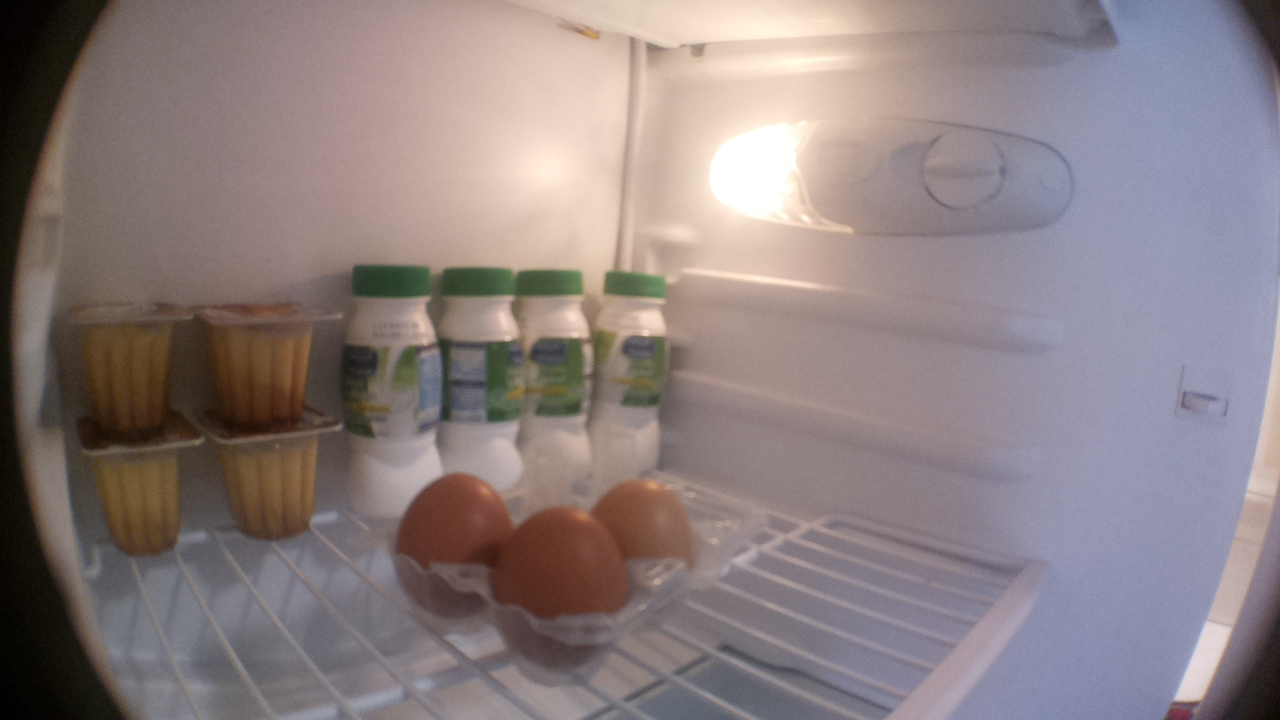caramel: (62, 420, 206, 564), (188, 295, 342, 424), (65, 298, 190, 431), (210, 419, 340, 540)
egg: (501, 478, 627, 691), (398, 481, 505, 638), (596, 475, 705, 618)
laban: (347, 256, 443, 519), (442, 266, 530, 480), (593, 263, 675, 474), (518, 267, 597, 483)
